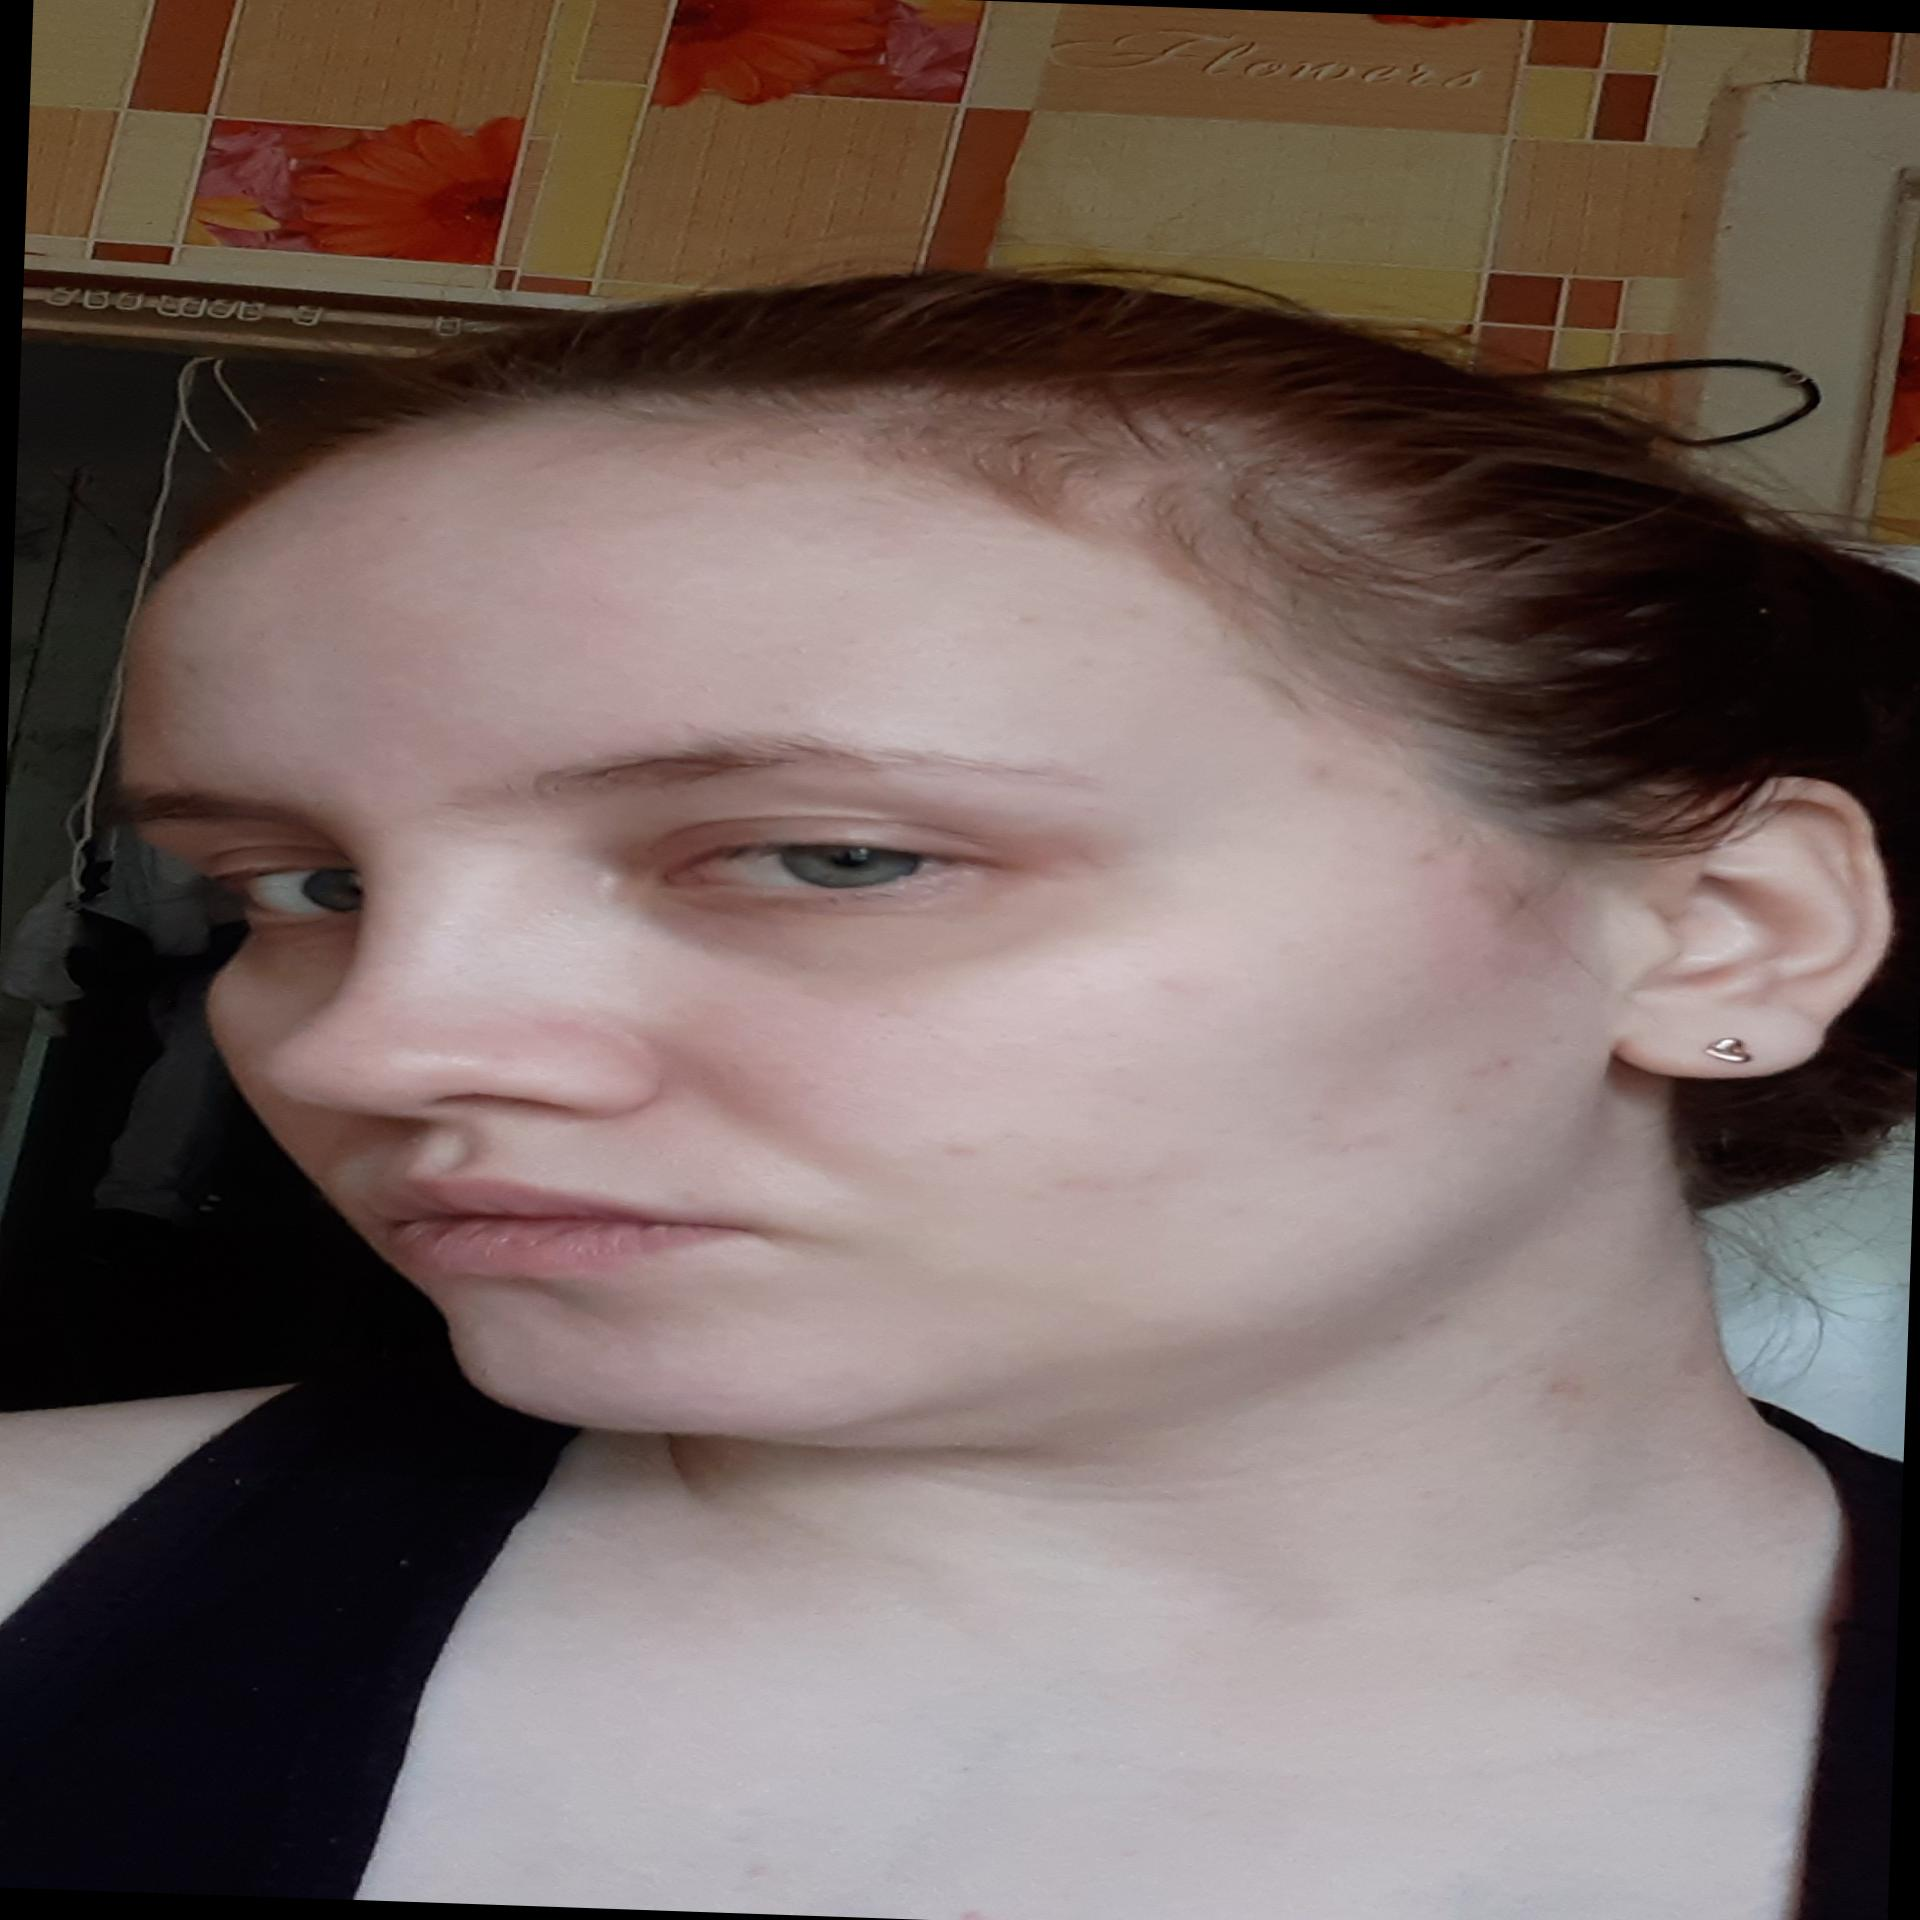Acne: (1148, 972, 1217, 995), (1398, 844, 1452, 872), (1537, 1373, 1582, 1403), (1461, 1053, 1519, 1076), (1101, 605, 1162, 626), (930, 1138, 999, 1155), (997, 610, 1051, 629), (1294, 756, 1340, 779)
